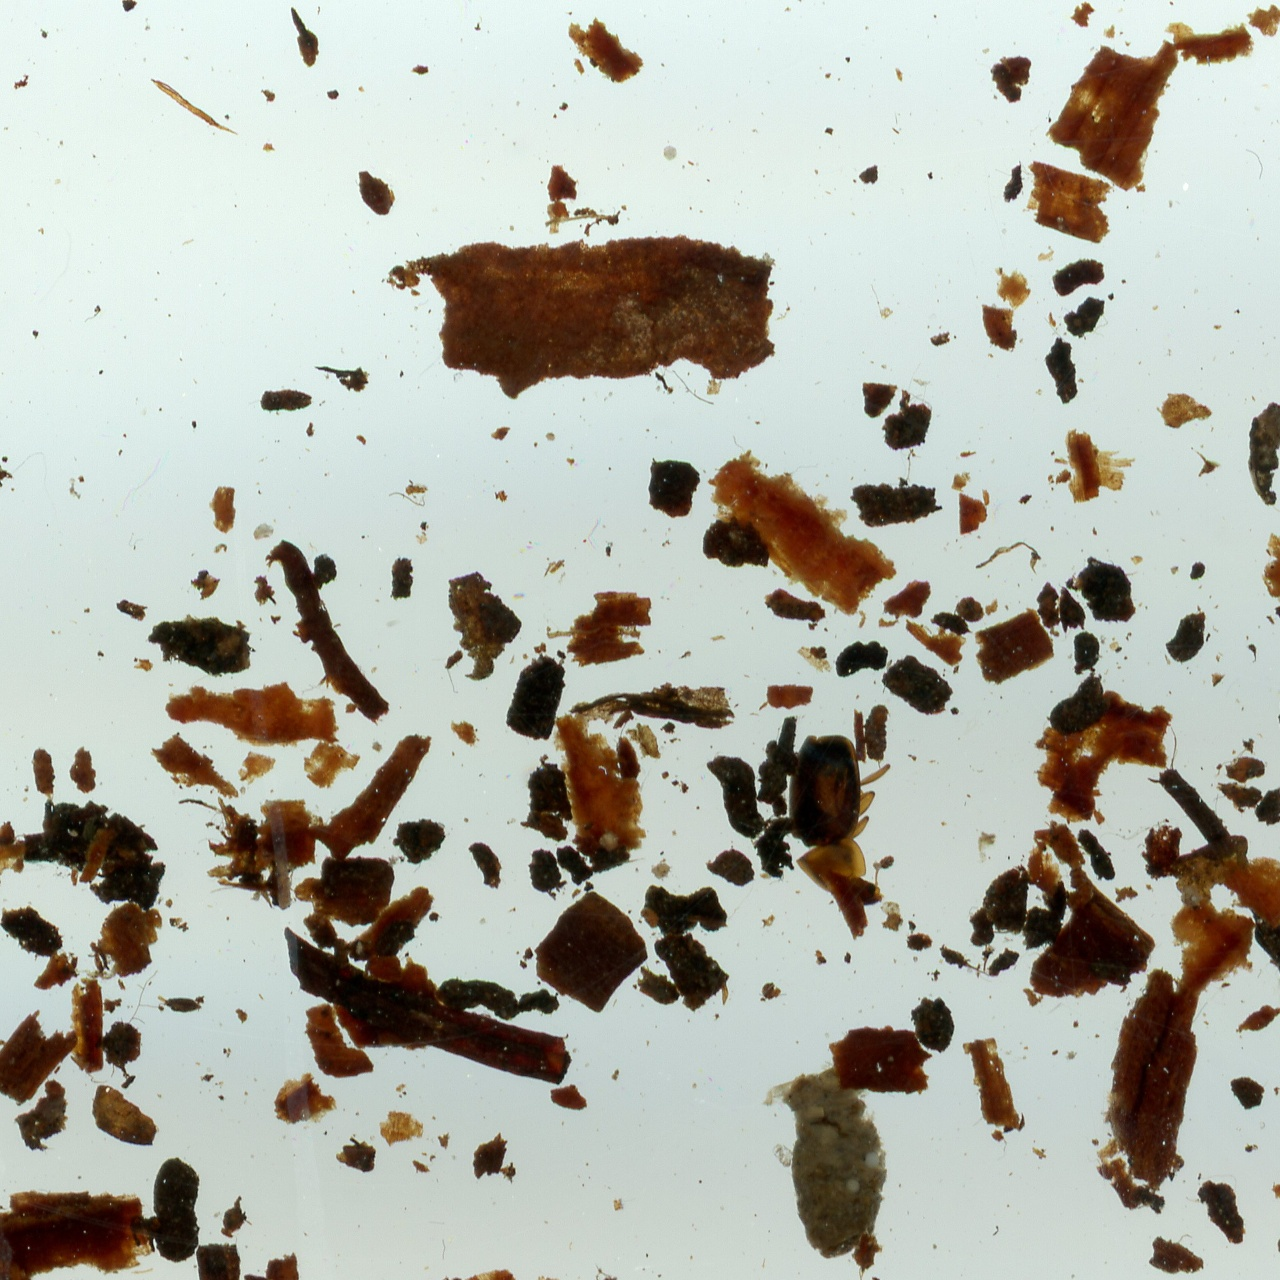arthropod: (783, 727, 899, 912)
